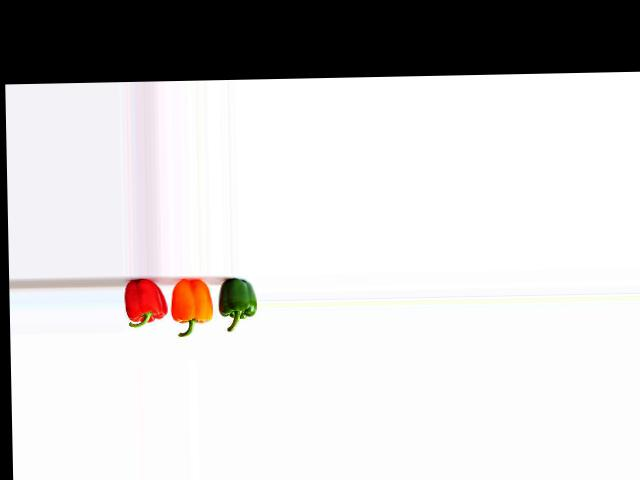bell_pepper: (121, 279, 168, 338)
